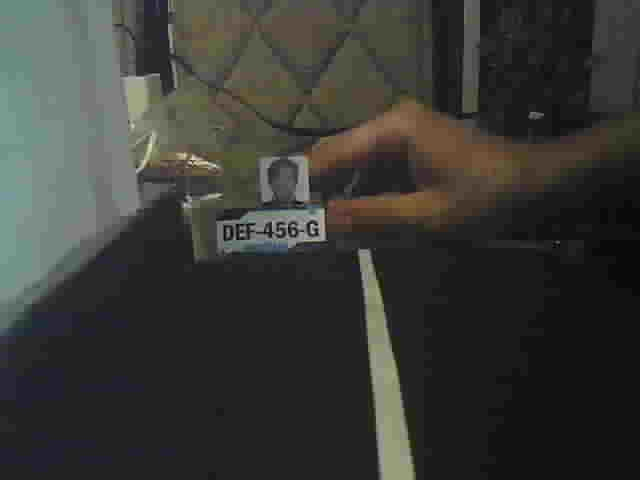PLACA: (214, 204, 331, 257)
ROSTRO: (258, 154, 310, 203)
